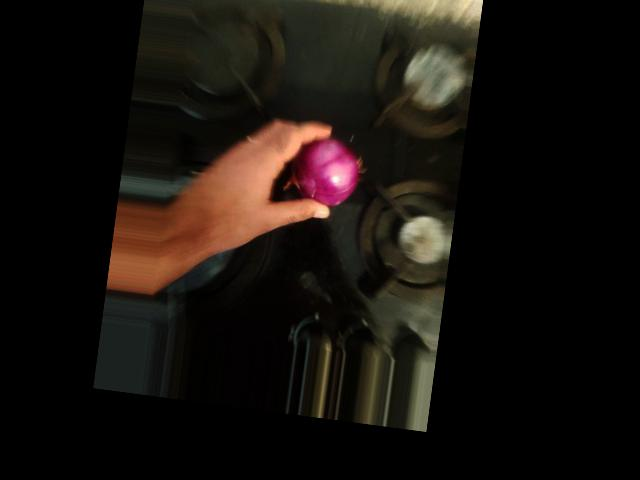onion: (270, 133, 359, 228)
